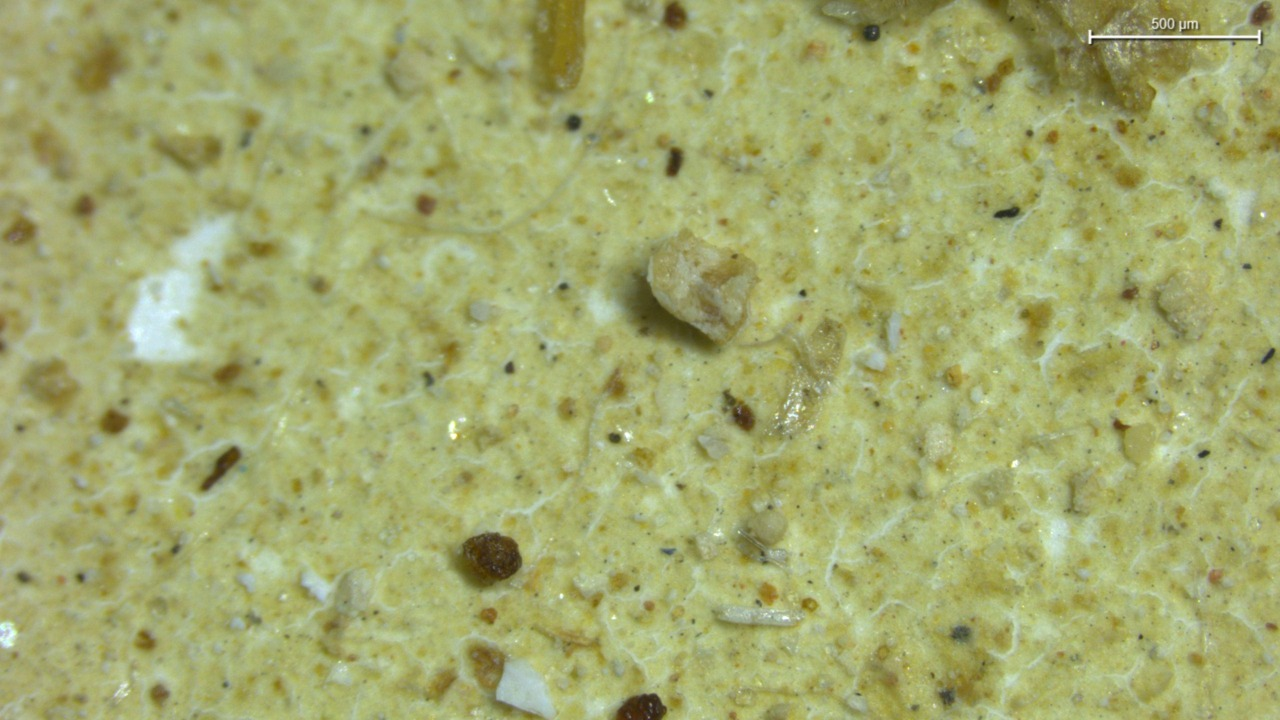microplastic_fragment: (651, 228, 760, 342), (495, 658, 561, 720), (1157, 271, 1209, 340)
